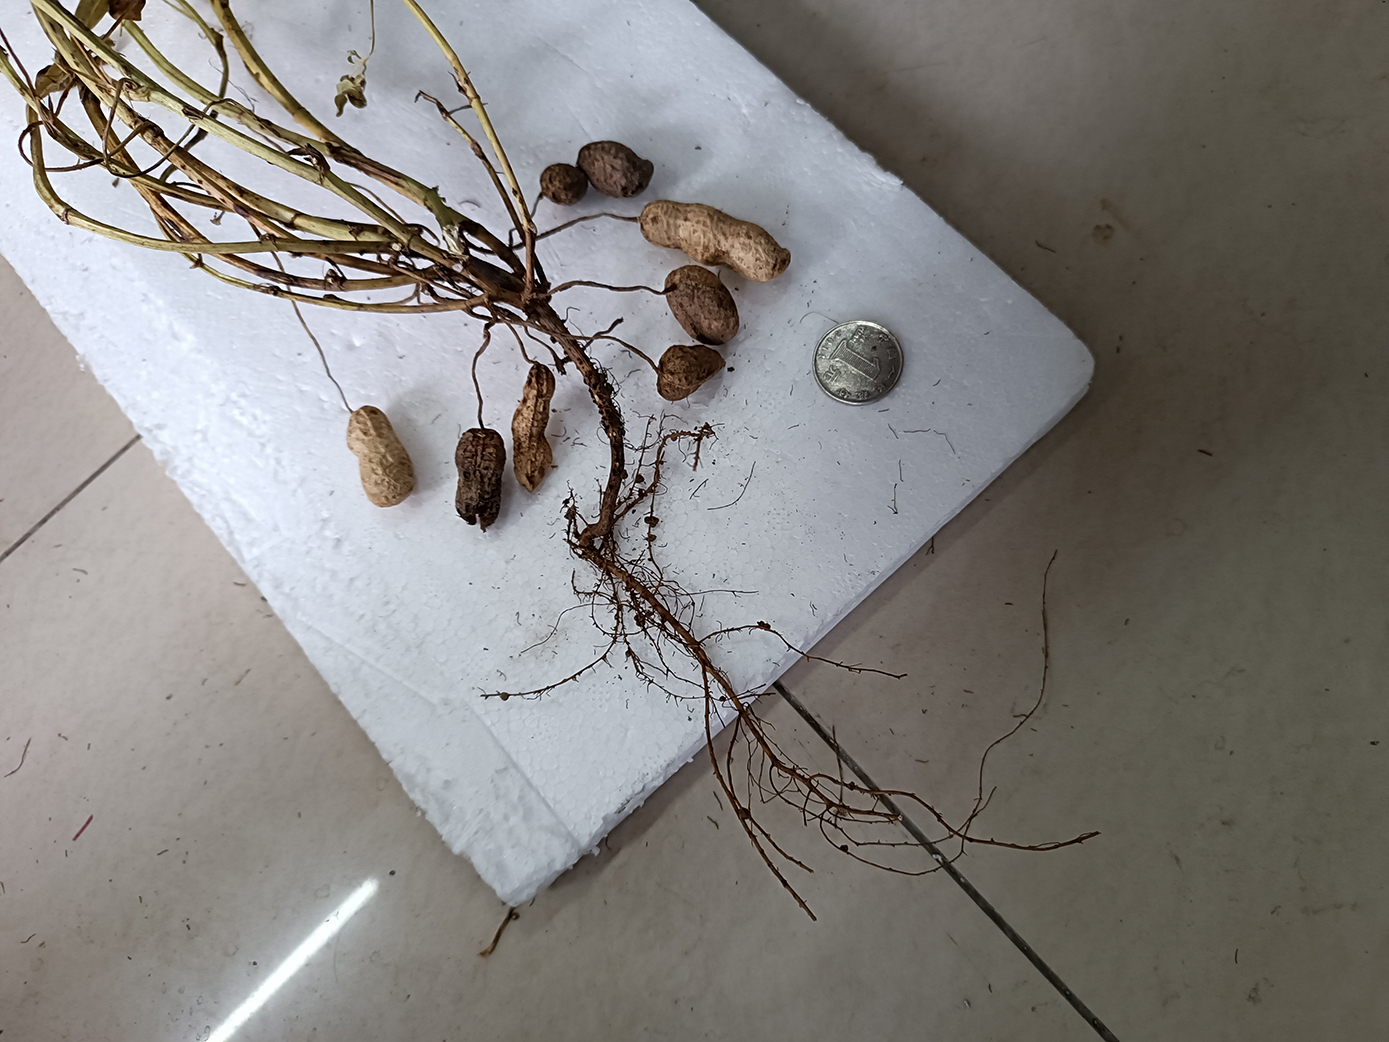h: (640, 198, 791, 285), (345, 405, 414, 507), (664, 267, 740, 344)
l: (511, 364, 556, 494), (452, 428, 505, 530), (577, 138, 656, 197), (658, 344, 726, 401), (540, 164, 586, 206)
